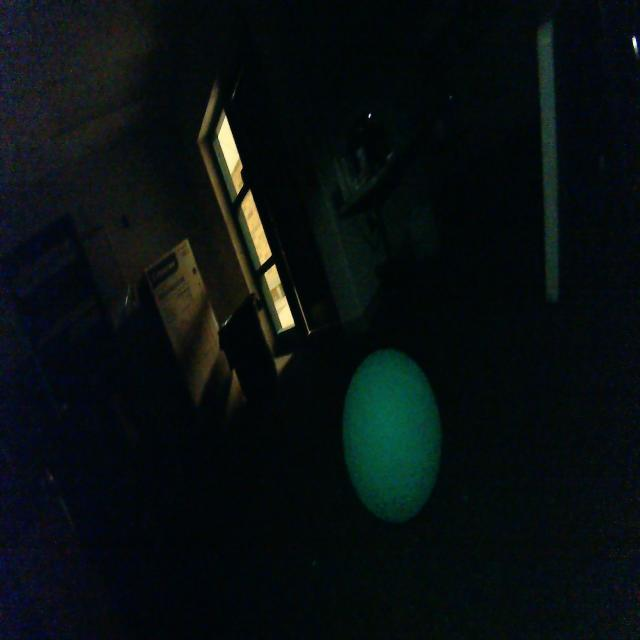algae: (339, 342, 445, 529)
